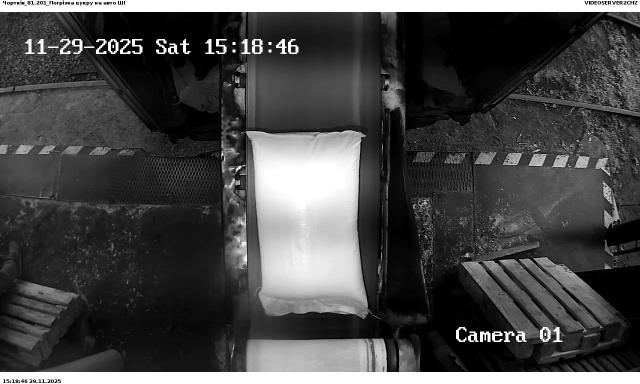bag: (245, 130, 370, 319)
